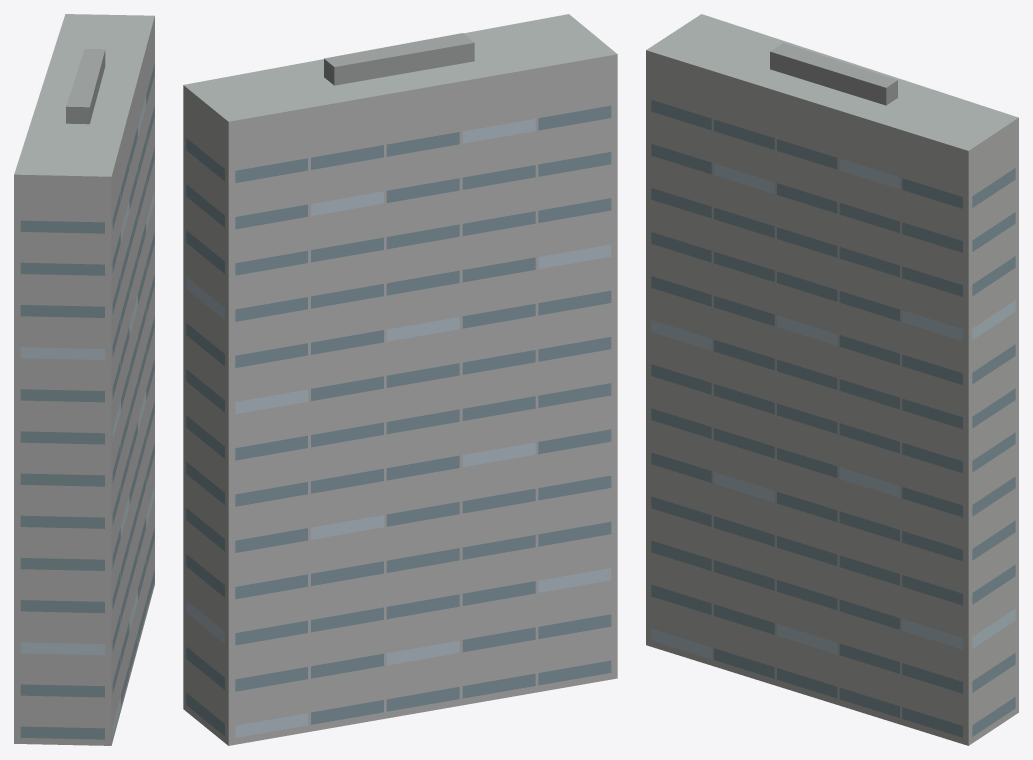
The model's file is fallback-jamsil-ricenz-217.glb.
The picture shows the model from 3 angles, left to right: view 1: azimuth 30°, elevation 25°; view 2: azimuth 150°, elevation 25°; view 3: azimuth 270°, elevation 25°; orthographic projection. The views are drawn at different scales.
Parts seen in each view (by area): view 1: fallback-jamsil-ricenz-217; view 2: fallback-jamsil-ricenz-217; view 3: fallback-jamsil-ricenz-217.
Boxes of the visible parts, box(x1,y1,x2,y2) form: fallback-jamsil-ricenz-217: box(14, 14, 154, 745); fallback-jamsil-ricenz-217: box(183, 14, 617, 745); fallback-jamsil-ricenz-217: box(646, 14, 1018, 745).
Bounding box in the file's own units: 39.79 × 83 × 45.77.
